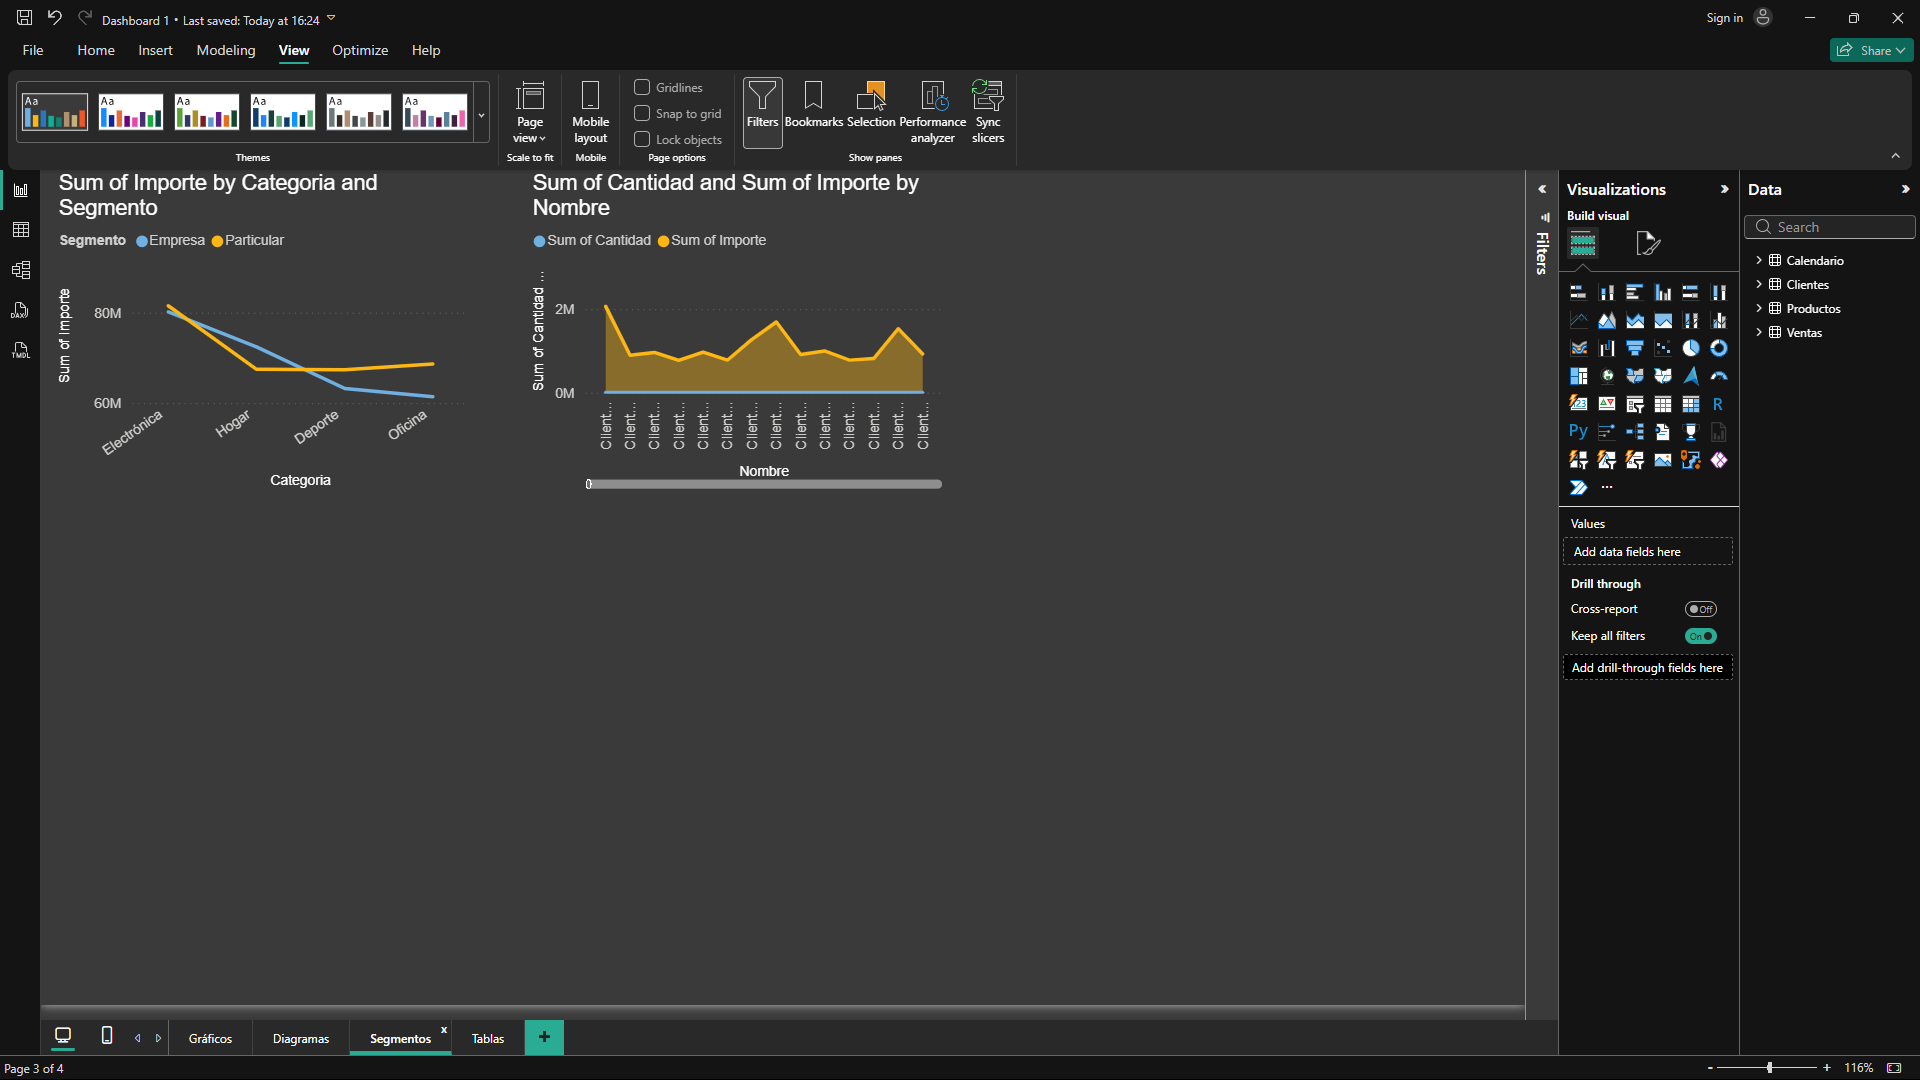

The page's visual inventory and layout, read from the dashboard file:
{"tool":"powerbi","page":{"name":"Segmentos","canvas":[1280,720],"ordinal":2},"visuals":[{"type":"lineChart","fields":{"Category":["Productos.Categoria"],"Series":["Clientes.Segmento"],"Y":["Sum(Ventas.Importe)"]},"box":[10,0,363.1,280],"z":0},{"type":"areaChart","fields":{"Category":["Clientes.Nombre"],"Y":["Sum(Ventas.Cantidad)","Sum(Ventas.Importe)"]},"box":[419.2,0,363.1,280],"z":1}]}

Visuals, with their boxes on the page's 1280x720 design canvas (x1, y1, x2, y2). These are canvas units, not pixel positions in the 1920x1080 screenshot, which may show the page scaled, cropped or inside an application window:
lineChart - Productos.Categoria x Clientes.Segmento: 10, 0, 373, 280
areaChart - Clientes.Nombre x Sum(Ventas.Cantidad): 419, 0, 782, 280
